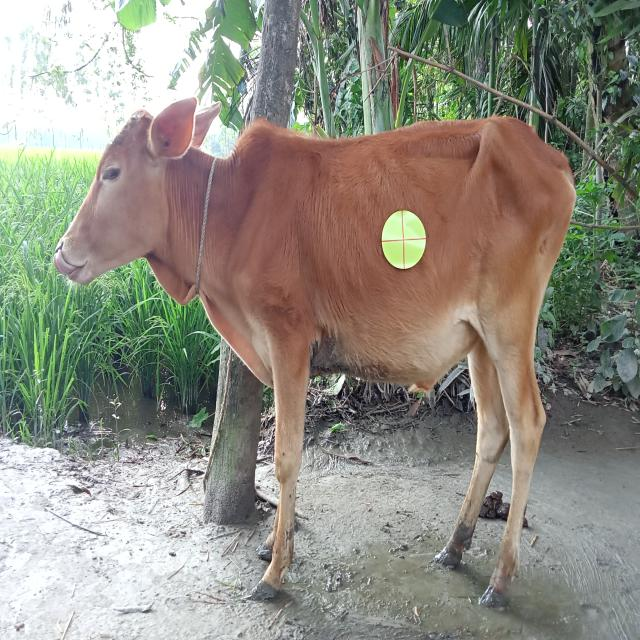badan_sapi: (228, 142, 567, 387)
sapi: (46, 90, 578, 616)
